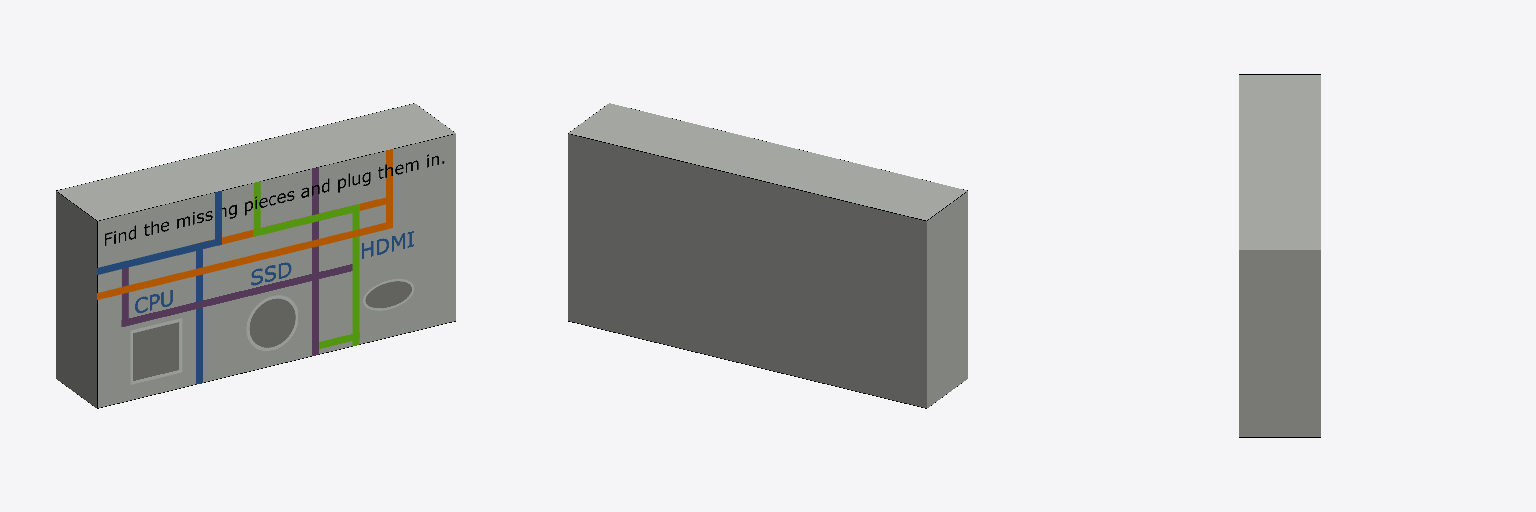
The picture shows the model from 3 angles: view 1: azimuth 30°, elevation 25°; view 2: azimuth 150°, elevation 25°; view 3: azimuth 270°, elevation 25°; orthographic projection.
Visible parts, largest first — view 1: Cube30; view 2: Cube30; view 3: Cube30.
Part boxes in pixels (x1,y1,x2,y2): Cube30: (56,103,455,408); Cube30: (568,103,967,408); Cube30: (1239,74,1320,437).
Bounding box in the file's own units: 16 × 8 × 3.2.
1 materials, 1 textured.